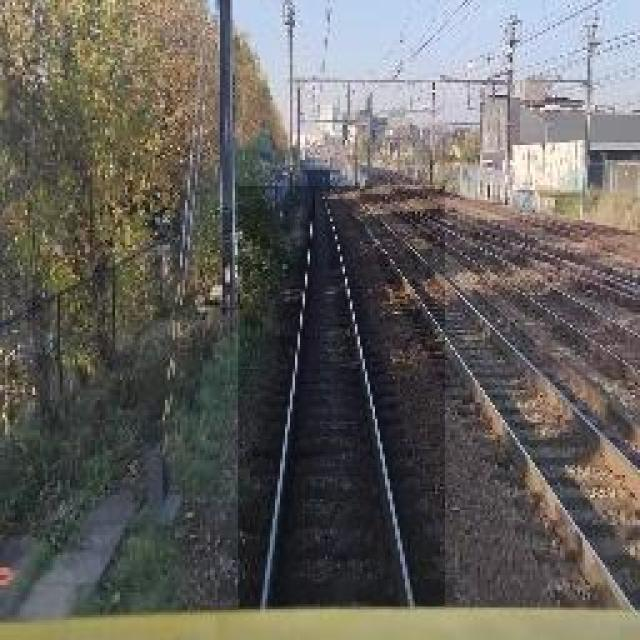rail: (240, 187, 446, 611)
